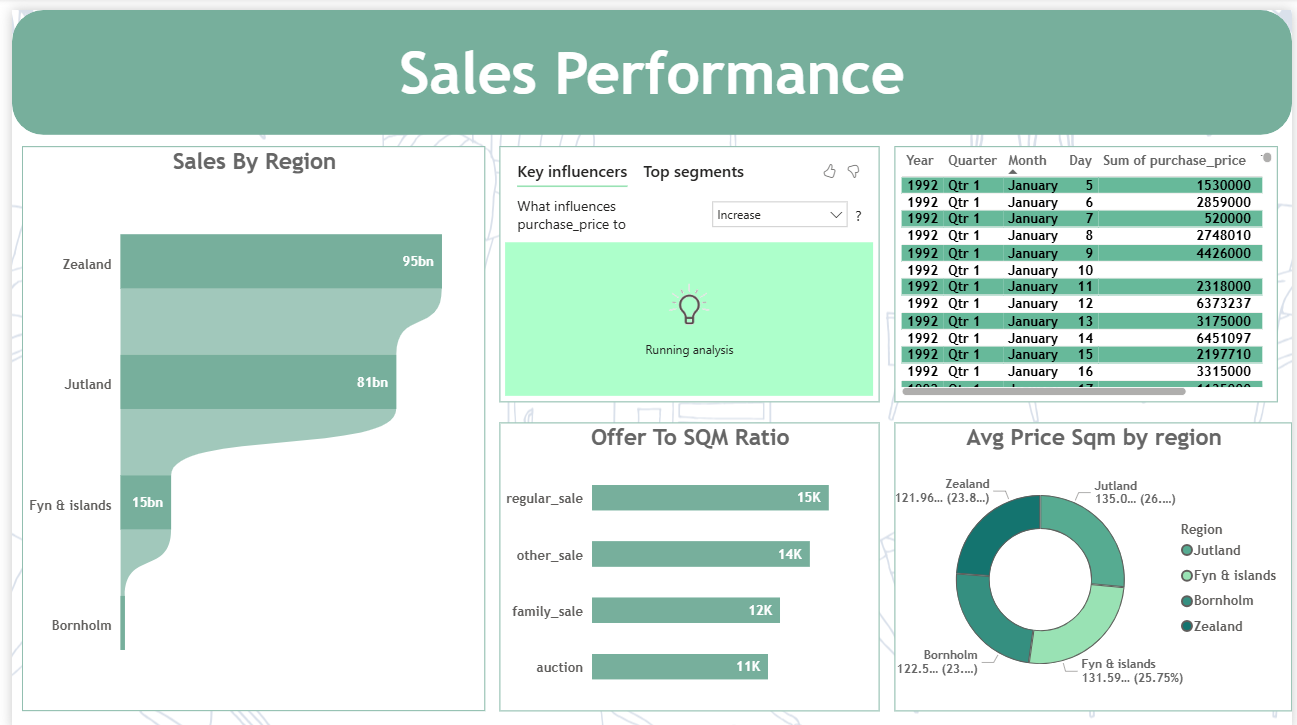

Layout of this report page (visuals, bound fields, positions):
{"tool":"powerbi","page":{"name":"Sales Performance","canvas":[1280,720],"ordinal":1},"visuals":[{"type":"shape","box":[0,0,1280,125],"z":0},{"type":"barChart","title":"Sales By Region","fields":{"Y":["Measure Table.Sales By Region"],"Category":["Housing Dataset.region"]},"box":[10.1,136.7,463.3,564.6],"z":1000},{"type":"tableEx","fields":{"Values":["Housing Dataset.date.Variation.Date Hierarchy.Year","Housing Dataset.date.Variation.Date Hierarchy.Quarter","Housing Dataset.date.Variation.Date Hierarchy.Month","Housing Dataset.date.Variation.Date Hierarchy.Day","Sum(Housing Dataset.purchase_price)","Measure Table.Total YTD Sales"]},"box":[882.3,136.7,383.5,255.7],"z":2000},{"type":"donutChart","fields":{"Y":["Measure Table.Avg Price Sqm"],"Category":["Housing Dataset.region"]},"box":[882.3,412.7,397.5,288.6],"z":3000},{"type":"keyDriversVisual","fields":{"Target":["Housing Dataset.purchase_price"],"ExplainBy":["Housing Dataset.Age"]},"box":[487.3,136.7,379.7,255.7],"z":4000},{"type":"barChart","title":"Offer To SQM Ratio","fields":{"Y":["Measure Table.Offer to SQM Ration"],"Category":["Housing Dataset.sales_type"]},"box":[487.3,412.7,379.7,288.6],"z":5000}]}

Visuals, with their boxes in screenshot pixels (x1, y1, x2, y2), scaled from the page's 1280x720 canvas onto the 1297x725 screenshot:
shape: 0, 0, 1296, 126
"Sales By Region" barChart: 10, 138, 480, 706
tableEx - Housing Dataset.date.Variation.Date Hierarchy.Year x Housing Dataset.date.Variation.Date Hierarchy.Quarter: 894, 138, 1283, 395
donutChart - Measure Table.Avg Price Sqm x Housing Dataset.region: 894, 416, 1296, 706
keyDriversVisual - Housing Dataset.purchase_price x Housing Dataset.Age: 494, 138, 879, 395
"Offer To SQM Ratio" barChart: 494, 416, 879, 706
